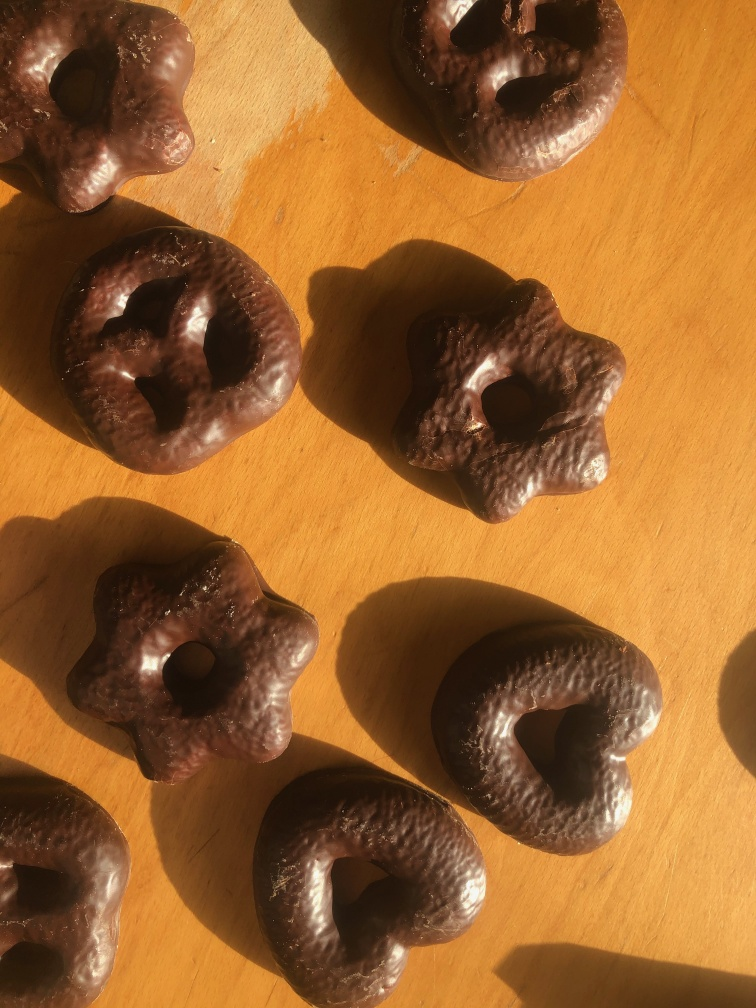bretzel: (38, 216, 304, 482), (387, 1, 631, 189), (1, 766, 131, 1003)
heart: (244, 763, 487, 1005), (430, 617, 668, 860)
star: (61, 531, 316, 794), (398, 266, 631, 528), (1, 1, 198, 216)
